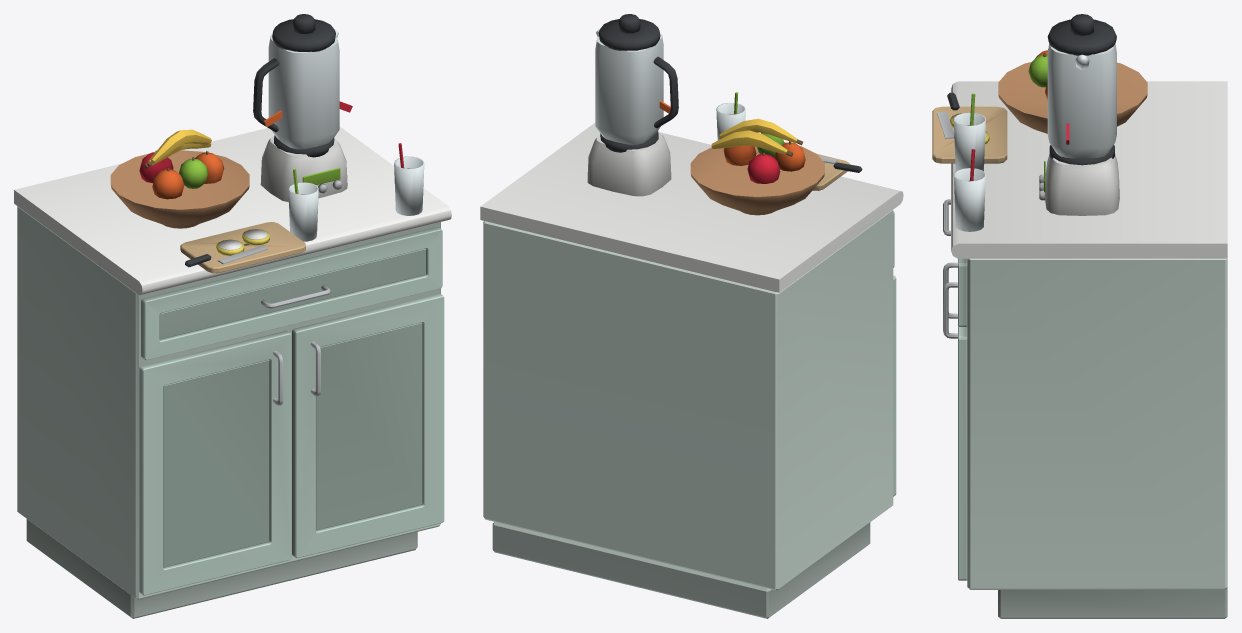
File: powerBlender.glb
3 renders of one model, left to right at view 1: azimuth 30°, elevation 25°; view 2: azimuth 150°, elevation 25°; view 3: azimuth 270°, elevation 25°, orthographic. The views are drawn at different scales.
Visible parts, largest first — view 1: body, lid; view 2: body, lid; view 3: body, lid.
Part boxes in pixels (bbox=[...]): body: bbox=[14, 29, 451, 618]; lid: bbox=[272, 14, 335, 51]; body: bbox=[480, 29, 903, 618]; lid: bbox=[598, 14, 660, 50]; body: bbox=[932, 43, 1227, 618]; lid: bbox=[1047, 14, 1116, 55].
Size of the model in its own units: 0.82 by 1.32 by 0.63.
